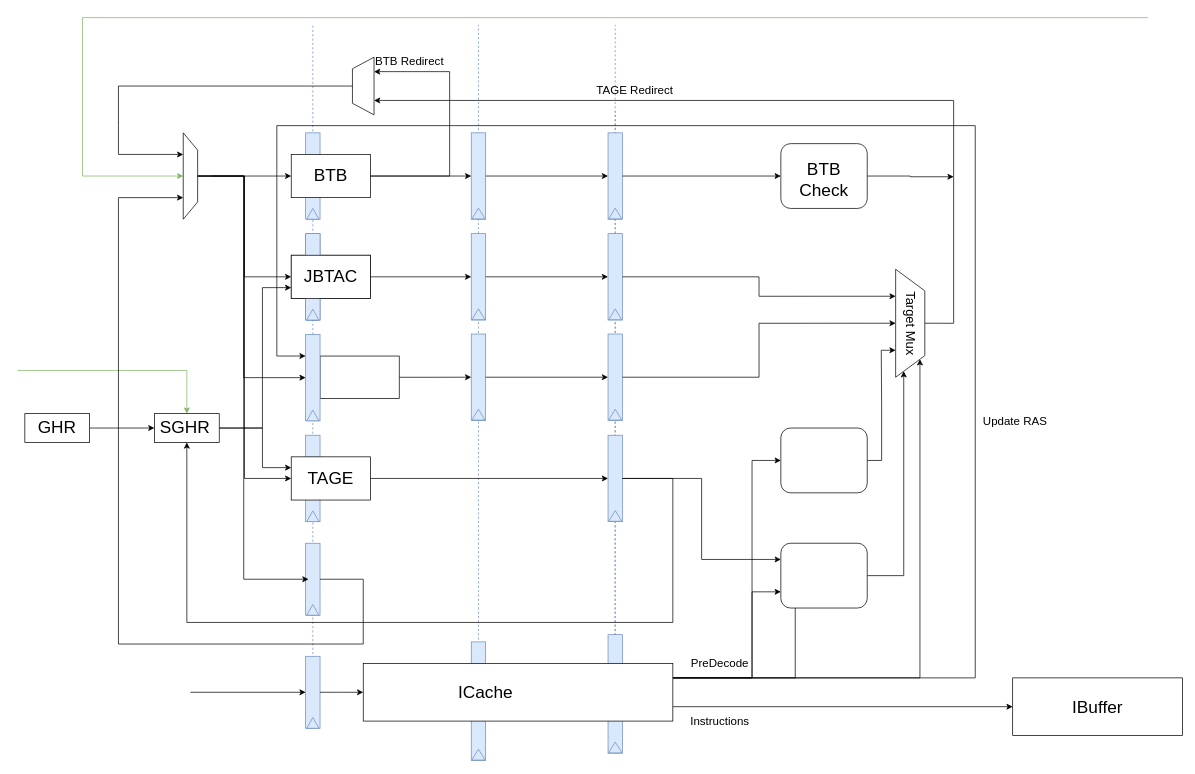
Image size: 1195x774. Some labels were removed from this diagram. The box of each missing label's shape, as (x1, y1, x2, y2) in pixels:
NPC Mux: (183, 132, 198, 219)
RAS: (319, 355, 399, 399)
Result Compare: (780, 543, 867, 608)
Target Gen: (780, 427, 867, 493)
